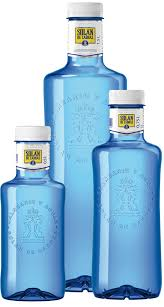solan de cabras: (13, 116, 63, 296), (72, 87, 161, 176), (53, 8, 132, 87)
